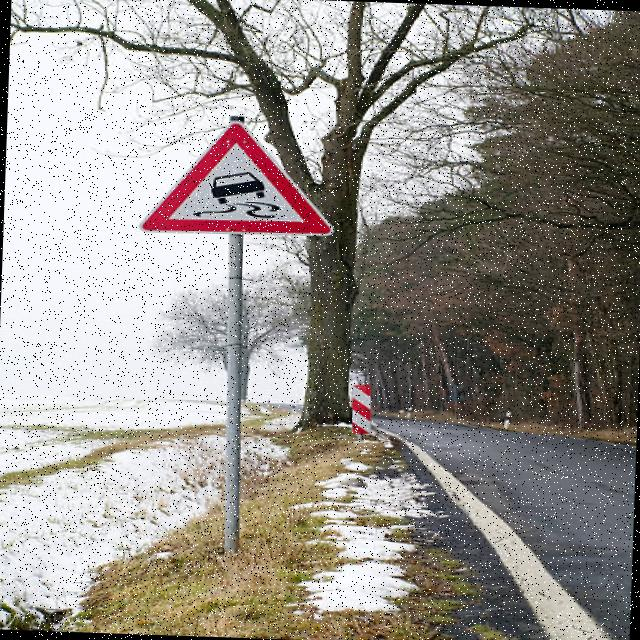road_slippery: (128, 111, 350, 244)
